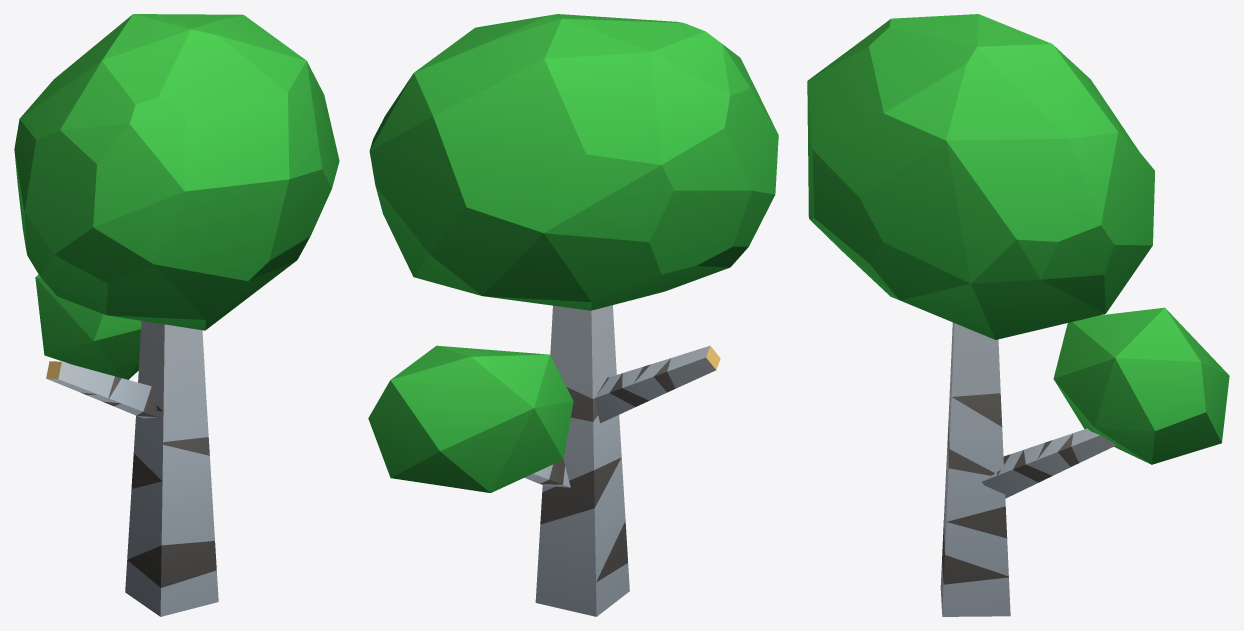
The model's file is Tree_8.fbx.
3 views of the same model, side by side, from view 1: azimuth 30°, elevation 25°; view 2: azimuth 150°, elevation 25°; view 3: azimuth 270°, elevation 25° (orthographic). The views are drawn at different scales.
Parts seen in each view (by area): view 1: Tree_8; view 2: Tree_8; view 3: Tree_8.
Part boxes in pixels (x1=…): Tree_8: x1=14, y1=14, x2=339, y2=616; Tree_8: x1=368, y1=14, x2=778, y2=616; Tree_8: x1=807, y1=14, x2=1229, y2=616.
Size of the model in its own units: 360 by 588 by 398.
